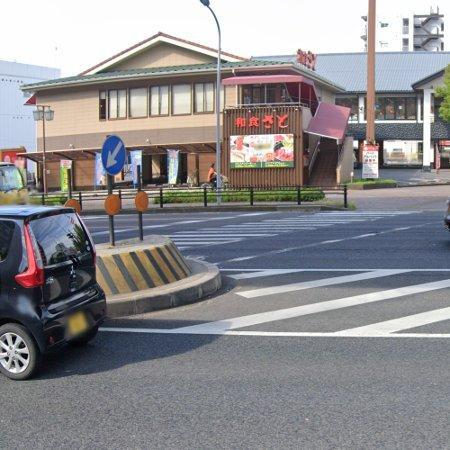crosswalks: (174, 265, 450, 335)
